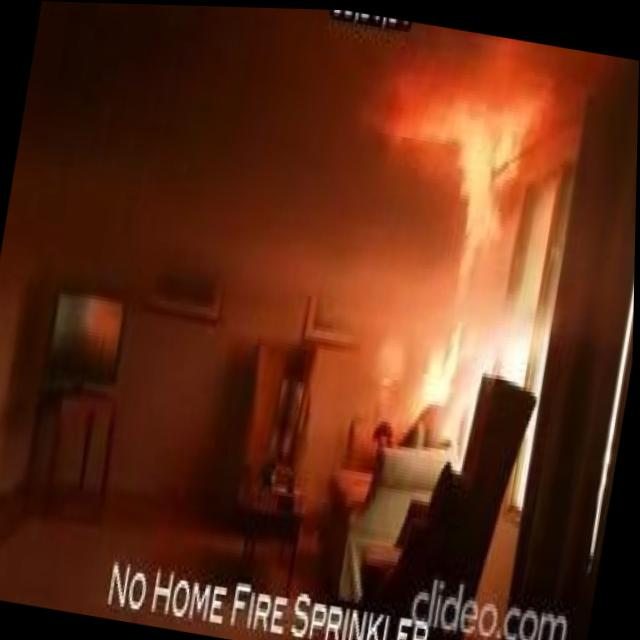fire: (379, 65, 532, 271), (410, 305, 470, 405)
